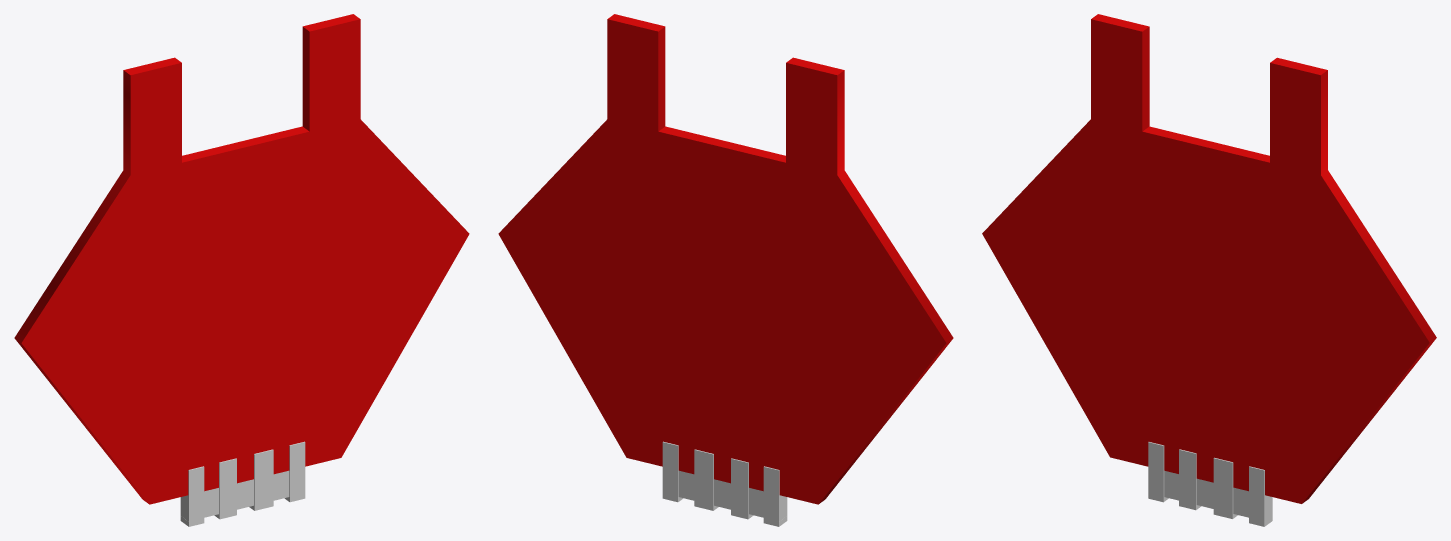
Rendered from SpaceShip.fbx.
The picture shows the model from 3 angles, left to right: view 1: azimuth 30°, elevation 25°; view 2: azimuth 150°, elevation 25°; view 3: azimuth 330°, elevation 25°; orthographic projection.
Parts seen in each view (by area): view 1: SpaceShip; view 2: SpaceShip; view 3: SpaceShip.
Boxes of the visible parts, x1=… form: SpaceShip: x1=14, y1=14, x2=469, y2=526; SpaceShip: x1=498, y1=14, x2=953, y2=526; SpaceShip: x1=982, y1=14, x2=1436, y2=526.
Bounding box in the file's own units: 4.8 × 4.76 × 0.1544.
